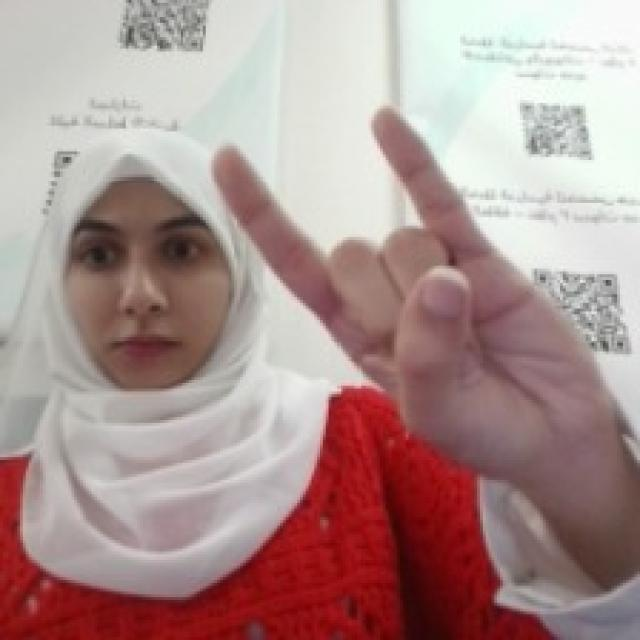No: (209, 94, 614, 474)
